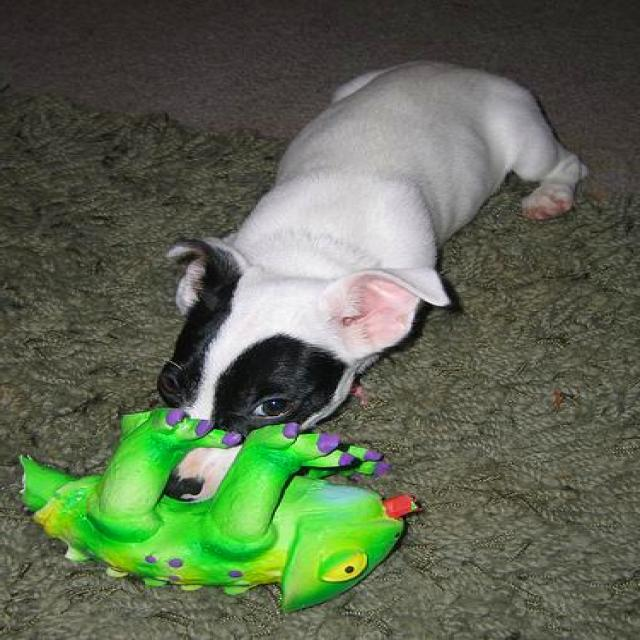toy_terrier: (153, 64, 588, 502)
